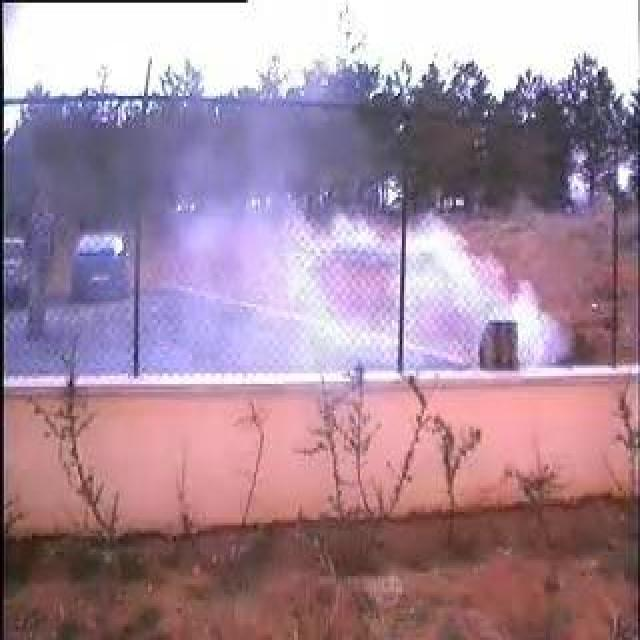Smoke: (159, 105, 539, 364)
